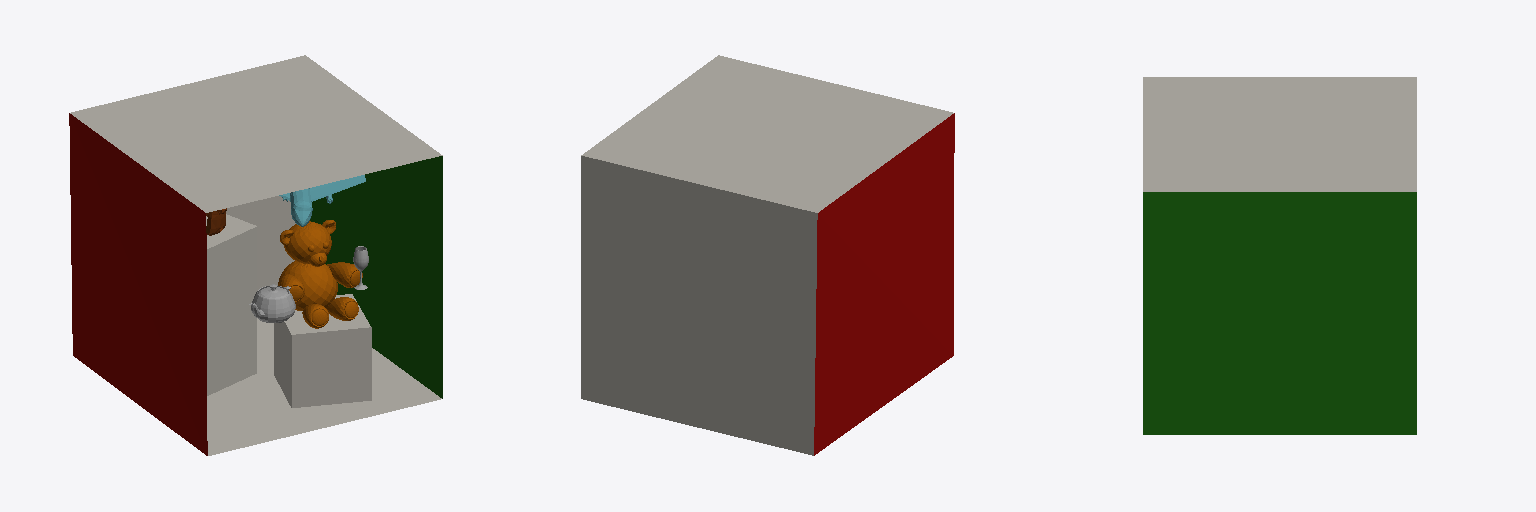
The model's file is bear_box.obj.
3 renders of one model, left to right at view 1: azimuth 30°, elevation 25°; view 2: azimuth 150°, elevation 25°; view 3: azimuth 270°, elevation 25°, orthographic.
Parts seen in each view (by area): view 1: leftWall, ceiling, rightWall, floor, shortBox, Sphere.014, backWall, Airplane_default2, Teapot01; view 2: backWall, leftWall, ceiling; view 3: rightWall, ceiling.
Boxes of the visible parts, x1=… form: leftWall: x1=69, y1=113, x2=371, y2=455; ceiling: x1=70, y1=55, x2=442, y2=212; rightWall: x1=310, y1=156, x2=442, y2=398; floor: x1=207, y1=318, x2=441, y2=455; shortBox: x1=206, y1=214, x2=256, y2=395; Sphere.014: x1=278, y1=220, x2=362, y2=328; backWall: x1=226, y1=196, x2=295, y2=290; Airplane_default2: x1=279, y1=175, x2=365, y2=226; Teapot01: x1=249, y1=284, x2=295, y2=322; backWall: x1=581, y1=156, x2=817, y2=455; leftWall: x1=814, y1=113, x2=954, y2=455; ceiling: x1=581, y1=55, x2=953, y2=212; rightWall: x1=1143, y1=192, x2=1416, y2=434; ceiling: x1=1143, y1=77, x2=1416, y2=191.
Size of the model in its own units: 2.02 by 1.99 by 2.03.